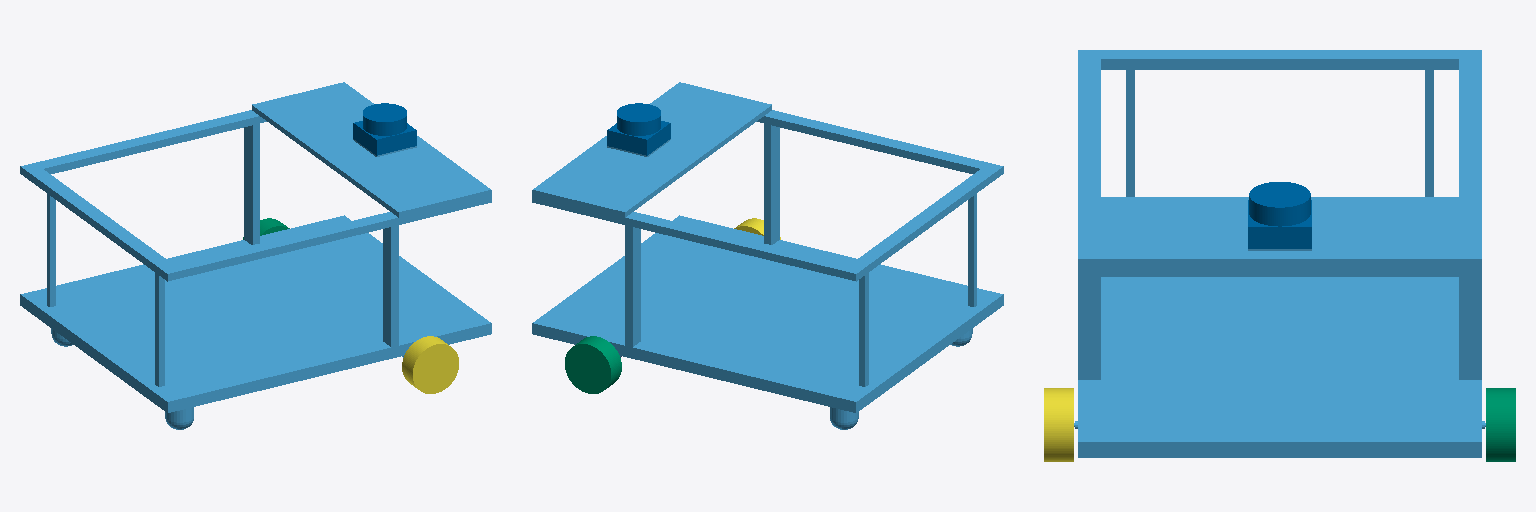
URDF robot description (fp_darc):
<?xml version='1.0' encoding='utf-8'?>
<robot name="fp_darc">
    <link name="base_footprint"/>

    <link name="base_link">
        <!-- <inertial>
            <origin xyz="0.014248278630327266 -1.1256463876270833e-16 0.08809110166240894" rpy="0.0 0.0 0.0" />
            <mass value="25.370430669503467" />
            <inertia ixx="0.43700216045651286" iyy="0.6193389146359399" izz="0.7959933109951695" ixy="-3.1478153640812046e-15" iyz="-2.5157174533884612e-16" ixz="-0.06472885644129664" />
        </inertial> -->
        <visual name="base_link_visual">
            <origin xyz="0.0 0.0 0.0" rpy="0.0 0.0 0.0" />
            <geometry>
                <mesh filename="package://fp_darc/meshes/base_link.stl" scale="0.001 0.001 0.001" />
            </geometry>
        </visual>
        <collision name="base_link_collision">
            <origin xyz="0.0 0.0 0.0" rpy="0.0 0.0 0.0" />
            <geometry>
                <mesh filename="package://fp_darc/meshes/base_link.stl" scale="0.001 0.001 0.001" />
            </geometry>
        </collision>
    </link>
    
    <link name="left_wheel_link">
        <!-- <inertial>
            <origin xyz="-2.842170943040401e-16 -4.4408920985006264e-17 -0.0022384734261346397" rpy="0.0 -0.0 0.0" />
            <mass value="0.6632556917446785" />
            <inertia ixx="0.00021132652048095127" iyy="0.00021132652048070494" izz="0.00035080091351932796" ixy="-8.673617379884035e-19" iyz="-1.734723475976807e-18" ixz="3.469446951953614e-18" />
        </inertial> -->
        <visual name="left_wheel_link_visual">
            <origin xyz="-0.1308000096526286 0.032500020853100324 -0.19500000000000003" rpy="1.5707963267948966 -0.0 0.0" />
            <geometry>
                <mesh filename="package://fp_darc/meshes/left_wheel_link.stl" scale="0.001 0.001 0.001" />
            </geometry>
        </visual>
        <collision name="left_wheel_link_collision">
            <origin xyz="-0.1308000096526286 0.032500020853100324 -0.19500000000000003" rpy="1.5707963267948966 -0.0 0.0" />
            <geometry>
                <mesh filename="package://fp_darc/meshes/left_wheel_link.stl" scale="0.001 0.001 0.001" />
            </geometry>
        </collision>
    </link>

    <link name="right_wheel_link">
        <!-- <inertial>
            <origin xyz="-3.375077994860476e-16 2.2204460492503132e-17 -0.0022384734261346397" rpy="0.0 -0.0 0.0" />
            <mass value="0.6632556917446786" />
            <inertia ixx="0.00021132652048094433" iyy="0.00021132652048071882" izz="0.00035080091351933837" ixy="-1.734723475976807e-18" iyz="-8.673617379884035e-19" ixz="-6.938893903907228e-18" />
        </inertial> -->
        <visual name="right_wheel_link_visual">
            <origin xyz="-0.1308000096526286 -0.032500020853100324 -0.19500000000000003" rpy="-1.5707963267948966 -0.0 0.0" />
            <geometry>
                <mesh filename="package://fp_darc/meshes/right_wheel_link.stl" scale="0.001 0.001 0.001" />
            </geometry>
        </visual>
        <collision name="right_wheel_link_collision">
            <origin xyz="-0.1308000096526286 -0.032500020853100324 -0.19500000000000003" rpy="-1.5707963267948966 -0.0 0.0" />
            <geometry>
                <mesh filename="package://fp_darc/meshes/right_wheel_link.stl" scale="0.001 0.001 0.001" />
            </geometry>
        </collision>
    </link>

    <link name="lidar_link">
        <!-- <inertial>
            <origin xyz="0.0 -5.316955220494399e-18 0.01821115335184331" rpy="0.0 -0.0 0.0" />
            <mass value="0.839241294222995" />
            <inertia ixx="0.00029665246862740913" iyy="0.00029665246862740913" izz="0.00038308114430482196" ixy="-8.888719094102273e-19" iyz="1.9227141262264804e-19" ixz="0.0" />
        </inertial> -->
        <visual name="lidar_link_visual">
            <origin xyz="-0.17920000000000003 0.0 -0.23870000000000002" rpy="0.0 -0.0 0.0" />
            <geometry>
                <mesh filename="package://fp_darc/meshes/lidar_link.stl" scale="0.001 0.001 0.001" />
            </geometry>
        </visual>
        <collision name="lidar_link_collision">
            <origin xyz="-0.17920000000000003 0.0 -0.23870000000000002" rpy="0.0 -0.0 0.0" />
            <geometry>
                <mesh filename="package://fp_darc/meshes/lidar_link.stl" scale="0.001 0.001 0.001" />
            </geometry>
        </collision>
    </link>
    
    <joint name="base_footprint_base_link_joint" type="fixed">
        <origin xyz="0.0 0.0 0.0" rpy="0.0 0.0 0.0"/>
        <parent link="base_footprint"/>
        <child link="base_link"/>
    </joint>

    <joint name="base_link_right_wheel_joint" type="continuous">
        <origin xyz="0.1308 -0.196 0.0325" rpy="1.5707963267948966 -0.0 0.0" />
        <parent link="base_link" />
        <child link="right_wheel_link" />
        <axis xyz="0.0 0.0 1.0" />
    </joint>

    <joint name="base_link_left_wheel_joint" type="continuous">
        <origin xyz="0.1308 0.196 0.0325" rpy="-1.5707963267948966 -0.0 0.0" />
        <parent link="base_link" />
        <child link="left_wheel_link" />
        <axis xyz="0.0 0.0 1.0" />
    </joint>

    <joint name="base_link_lidar_joint" type="fixed">
        <origin xyz="0.17920000000000003 0.0 0.23870000000000002" rpy="0.0 -0.0 0.0" />
        <parent link="base_link" />
        <child link="lidar_link" />
    </joint>

    <!-- added below to simulate movement in rviz-->
    <!-- <ros2_control name="FPDARCControl" type="system">
        <hardware>
            <plugin>mock_components/GenericSystem</plugin>
            <param name="example_param">example_value</param>
        </hardware>

        <joint name="base_link_left_wheel_joint">
            <command_interface name="velocity"/>
            <state_interface name="position"/>
            <state_interface name="velocity"/>
        </joint>

        <joint name="base_link_right_wheel_joint">
            <command_interface name="velocity"/>
            <state_interface name="position"/>
            <state_interface name="velocity"/>
        </joint>
    </ros2_control> -->
</robot>

--- Render facts (derived) ---
The picture shows the robot from 3 angles, left to right: view 1: azimuth 30°, elevation 25°; view 2: azimuth 150°, elevation 25°; view 3: azimuth 270°, elevation 25°; orthographic projection.
Model fp_darc with 5 links and 4 joints (2 continuous, 2 fixed), rooted at base_footprint, posed all joints at 0.
Links seen in each view (by area): view 1: base_link, right_wheel_link, lidar_link; view 2: base_link, left_wheel_link, lidar_link; view 3: base_link, lidar_link, left_wheel_link, right_wheel_link.
Link boxes in pixels (<box>): base_link: <box>20,82,491,429</box>; right_wheel_link: <box>402,336,458,393</box>; lidar_link: <box>353,103,416,155</box>; base_link: <box>532,82,1003,429</box>; left_wheel_link: <box>565,336,621,393</box>; lidar_link: <box>607,103,670,155</box>; base_link: <box>1074,50,1485,457</box>; lidar_link: <box>1248,182,1311,248</box>; left_wheel_link: <box>1486,388,1515,461</box>; right_wheel_link: <box>1044,388,1073,461</box>.
Bounding box of the posed robot: 0.45 × 0.413 × 0.278 m (x, y, z).
Meshes: 4 distinct files referenced, 4 mesh visuals loaded (4 binary STL).
